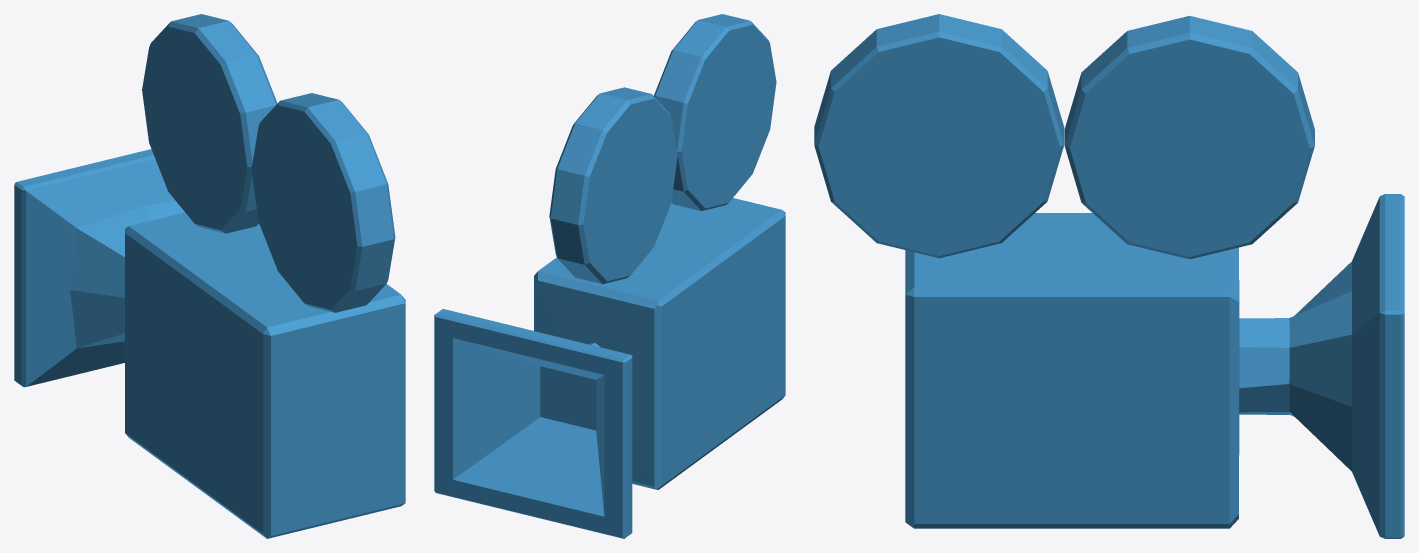
The model's file is camera_icon_3d.fbx.
3 views of the same model, side by side, from view 1: azimuth 30°, elevation 25°; view 2: azimuth 150°, elevation 25°; view 3: azimuth 270°, elevation 25° (orthographic). The views are drawn at different scales.
Parts seen in each view (by area): view 1: Camera_Mesh; view 2: Camera_Mesh; view 3: Camera_Mesh.
Part boxes in pixels (x1,y1,x2,y2): Camera_Mesh: [14, 14, 405, 538]; Camera_Mesh: [434, 14, 785, 538]; Camera_Mesh: [814, 14, 1404, 538].
Size of the model in its own units: 127 by 233 by 266.
